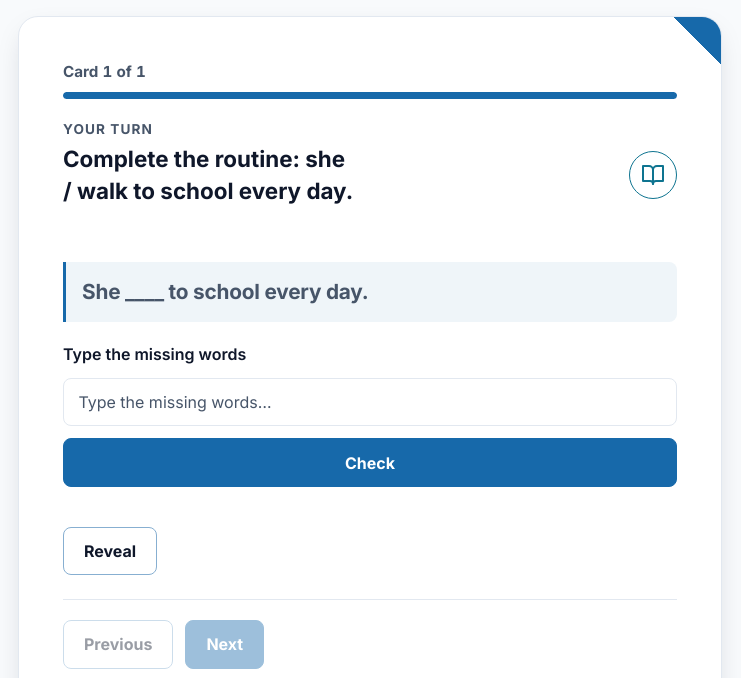
Test: VerbTensesPracticeClient › revela todas las formas cuando el ejercicio practica más de una
Click the button "Reveal". click: {"x": 110, "y": 551}
box: [63,527,157,575]
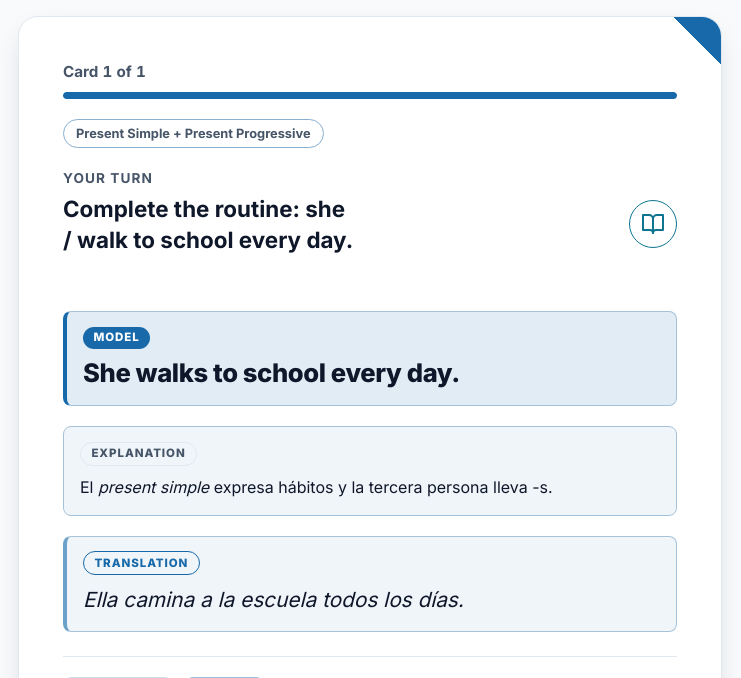
Expected: the text "Present Simple + Present Progressive" is shown, [63,119,324,148]
